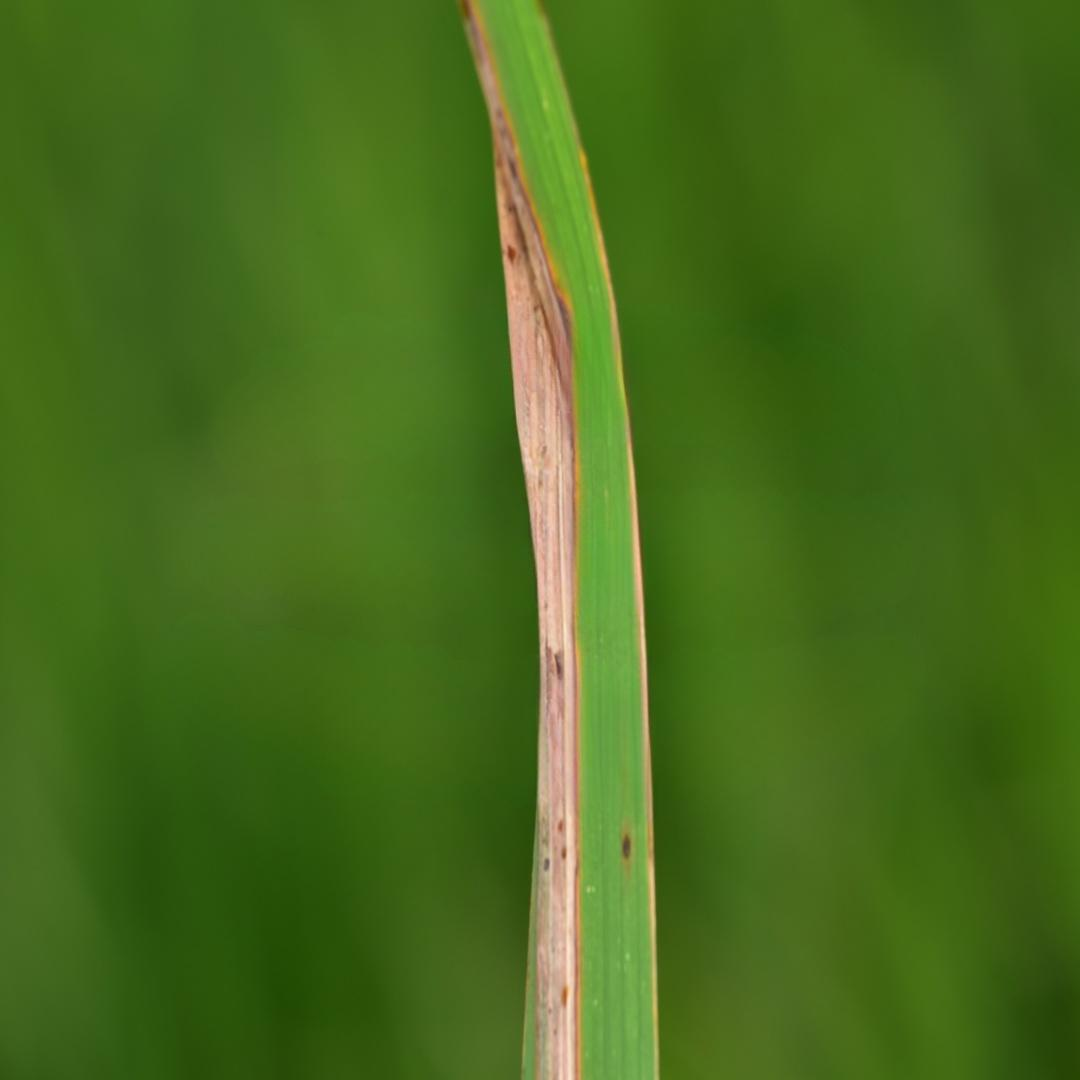BLB: (459, 0, 583, 1079)
